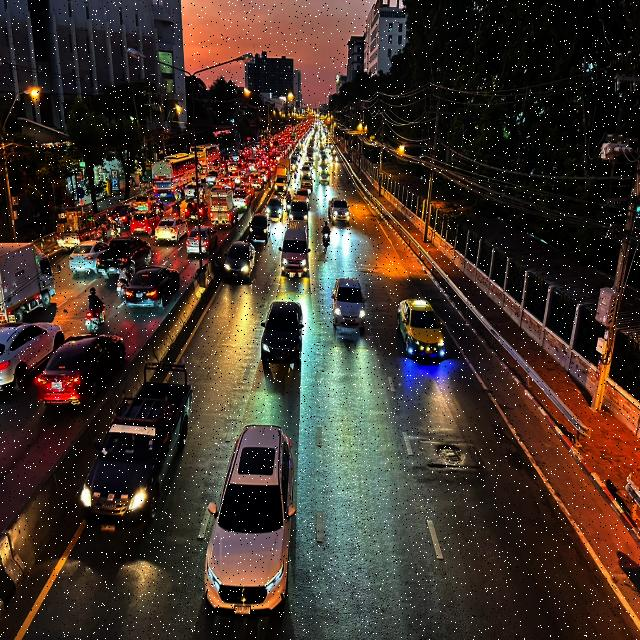car: (197, 420, 304, 623)
truck: (71, 351, 199, 547)
